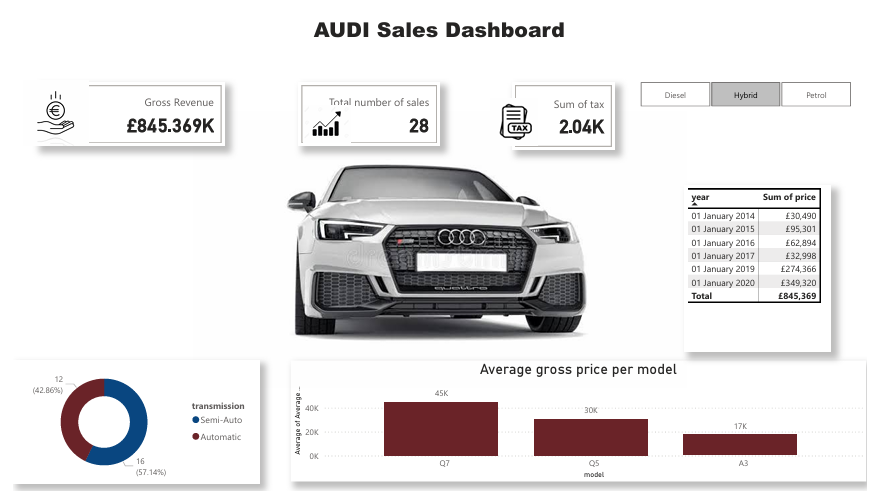

What the dashboard file says about the page in this screenshot:
{"tool":"powerbi","page":{"name":"Page 1","canvas":[1280,720],"ordinal":0},"visuals":[{"type":"clusteredColumnChart","fields":{"Category":["audi.model"],"Y":["Avg(audi.Average price 1)"]},"box":[393.1,748.3,886.2,151.7],"z":0},{"type":"clusteredColumnChart","title":"Average gross price per model","fields":{"Category":["audi.model"],"Y":["Avg(audi.Average price 1)"]},"box":[415.7,524.3,862.9,181.4],"z":1000},{"type":"cardVisual","fields":{"Data":["CountNonNull(audi.price)"]},"box":[428.3,106.7,211.7,96.7],"z":2000},{"type":"cardVisual","fields":{"Data":["Sum(audi.price)"]},"box":[35,106.7,281.7,96.7],"z":3000},{"type":"donutChart","fields":{"Category":["audi.transmission"],"Y":["CountNonNull(audi.transmission)"]},"box":[0,524.3,368.6,184.3],"z":4000},{"type":"image","box":[416.7,136.7,105,66.7],"z":5000},{"type":"image","box":[0,100,126.7,108.3],"z":6000},{"type":"slicer","fields":{"Values":["audi.fuelType"]},"box":[915,100,365,50],"z":7000},{"type":"shape","title":"AUDI Sales Dashboard","box":[153.3,5,971.7,68.3],"z":8000},{"type":"cardVisual","fields":{"Data":["Sum(audi.tax)"]},"box":[748.3,106.7,153.3,101.7],"z":9000},{"type":"pivotTable","fields":{"Rows":["audi.year"],"Values":["Sum(audi.price)"]},"box":[1006.7,261.7,220,250],"z":10000},{"type":"image","box":[710,117.1,81.4,98.6],"z":11000}]}

Visuals, with their boxes in screenshot pixels (x1, y1, x2, y2), scaled from the page's 1280x720 canvas onto the 879x501 screenshot:
"Average gross price per model" clusteredColumnChart: 285:365:878:491
cardVisual - CountNonNull(audi.price): 294:74:440:142
cardVisual - Sum(audi.price): 24:74:217:142
donutChart - audi.transmission x CountNonNull(audi.transmission): 0:365:253:493
image: 286:95:358:142
image: 0:70:87:145
slicer - audi.fuelType: 628:70:878:104
"AUDI Sales Dashboard" shape: 105:3:773:51
cardVisual - Sum(audi.tax): 514:74:619:145
pivotTable - audi.year x Sum(audi.price): 691:182:842:356
image: 488:81:543:150
